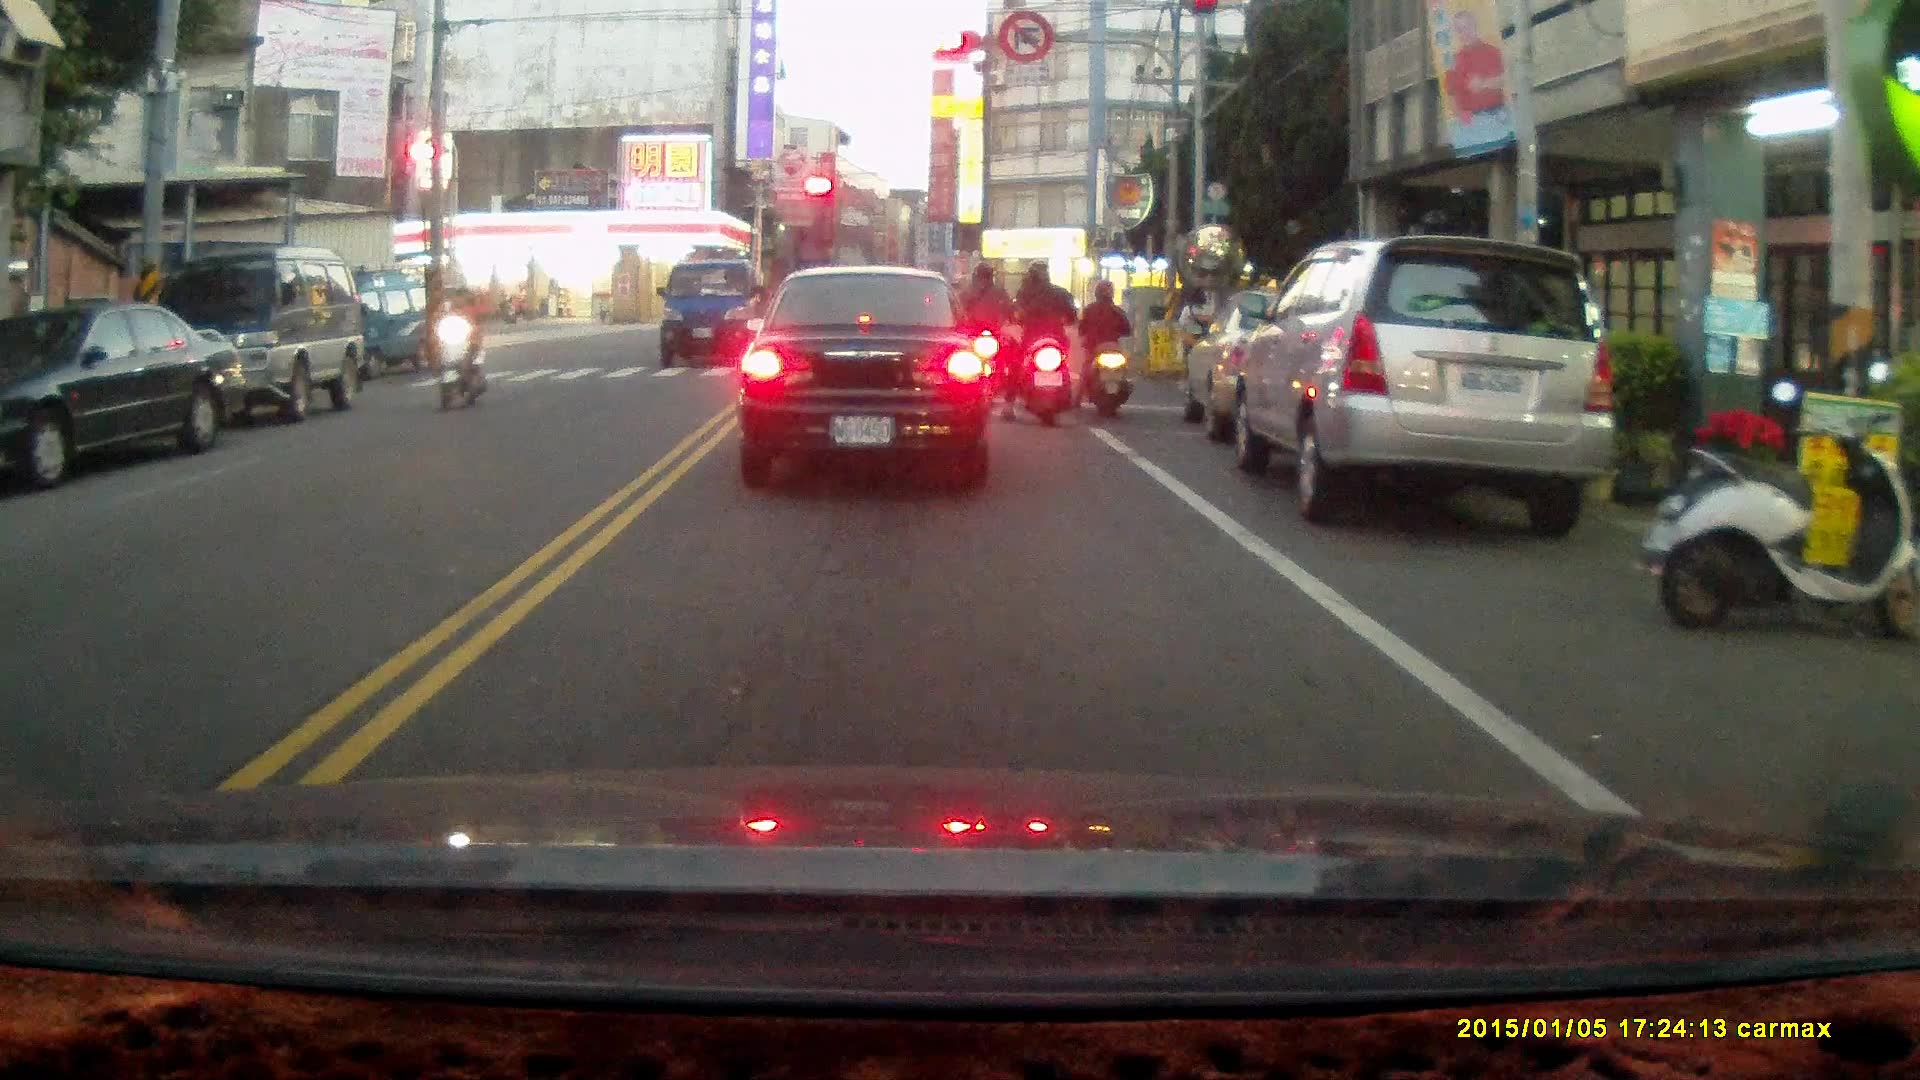pedestrian: (1176, 282, 1220, 403)
rider: (996, 255, 1078, 429), (1073, 277, 1134, 419), (954, 266, 1011, 410), (434, 281, 490, 412)
vehicle: (1222, 236, 1610, 530), (742, 265, 1001, 488), (13, 302, 248, 488), (147, 245, 369, 420), (326, 270, 447, 383), (659, 263, 771, 372)
